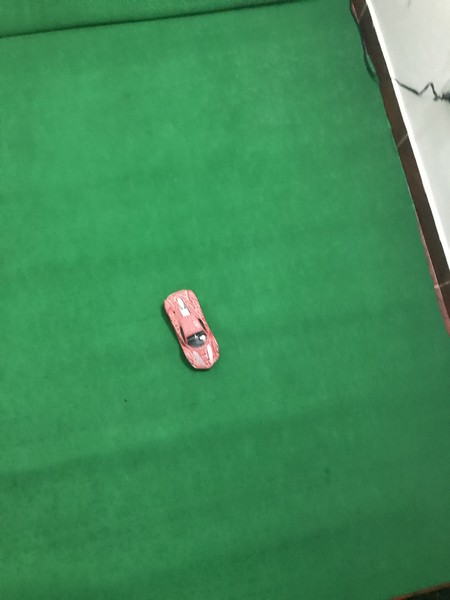RC: (163, 287, 222, 372)
